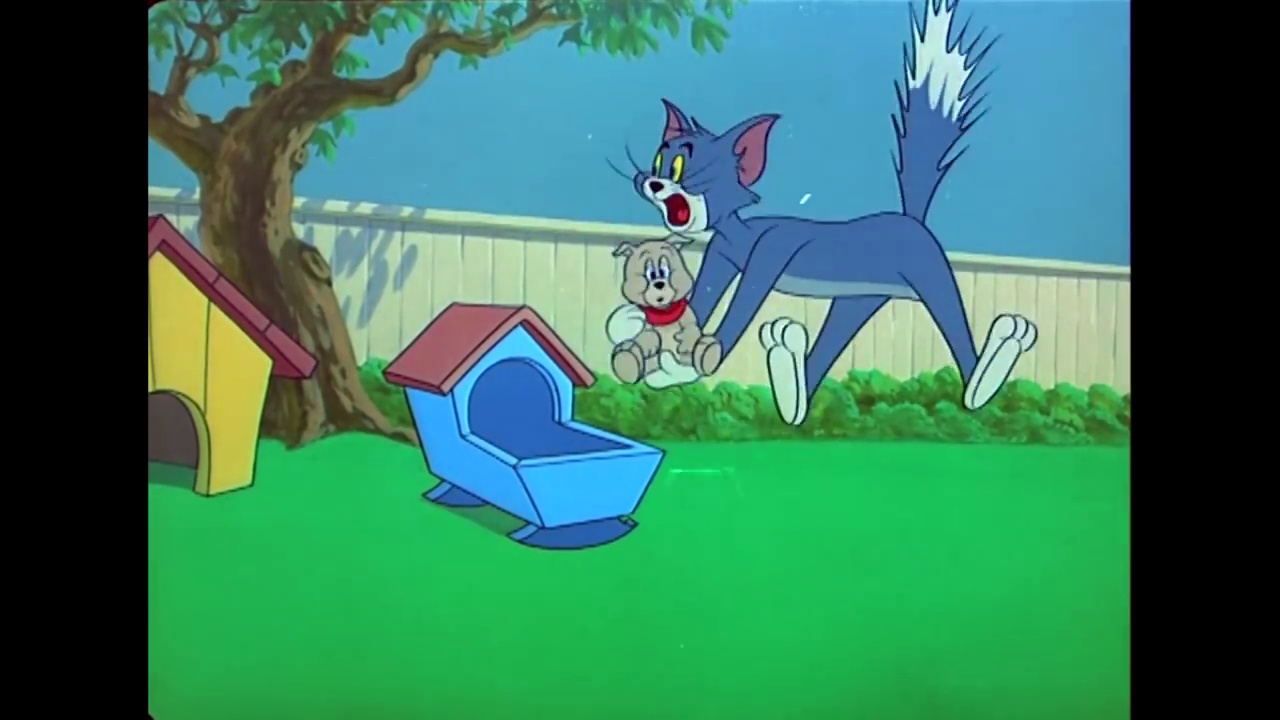tom: (624, 97, 785, 237)
